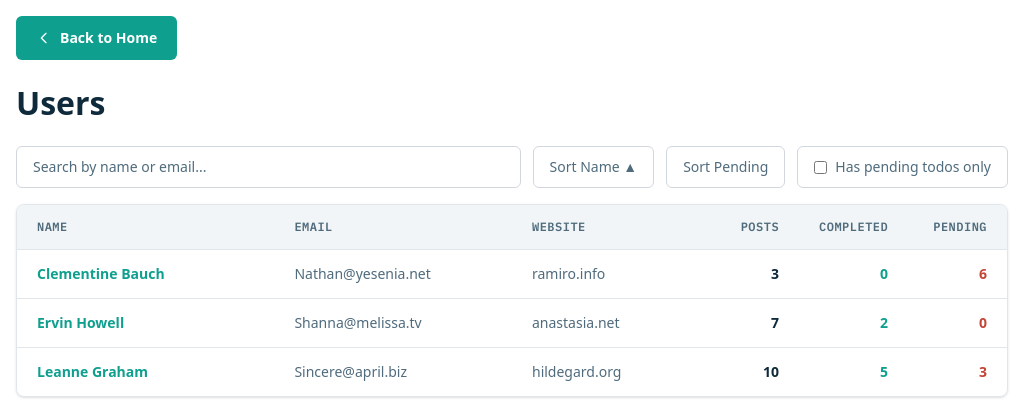
Test: UsersList › filters users by name through search input
Type "Ervin" into the search field named "search users" at {"x": 268, "y": 167}, box [16,146,520,188]
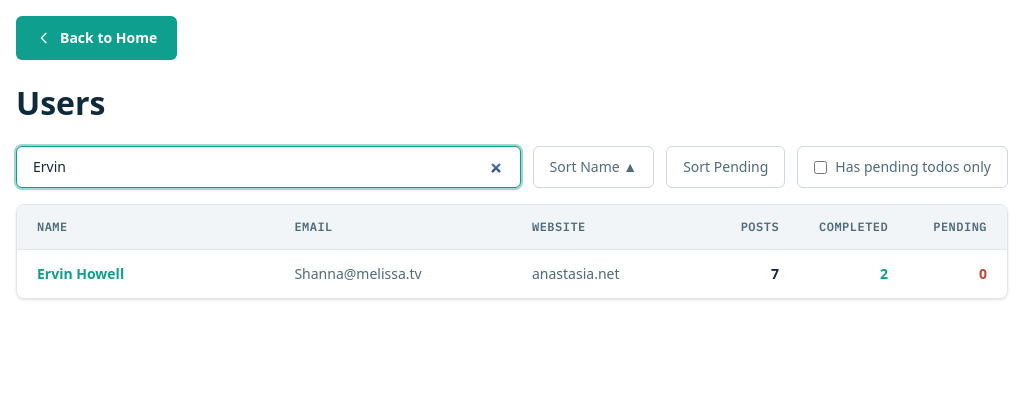
expect the link "Ervin Howell" is shown: met, box [37,264,124,283]
expect the link "Leanne Graham" is gone: met
expect the link "Clementine Bauch" is gone: met
